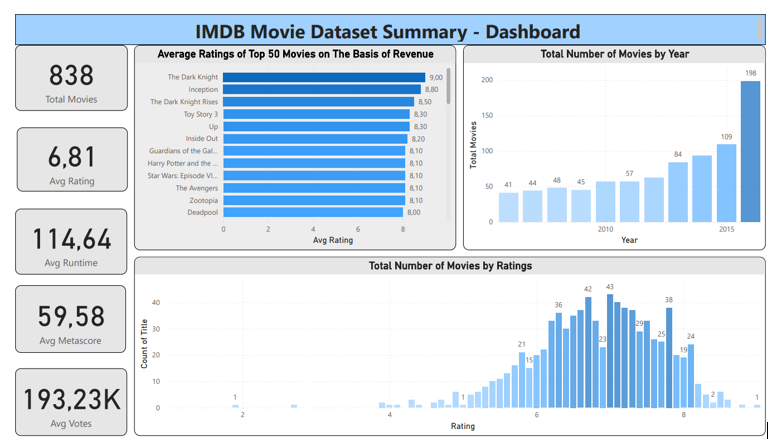

The dashboard page shown, as its layout file describes it:
{"tool":"powerbi","page":{"name":"Dashboard page - 1","canvas":[1280,720],"ordinal":0},"visuals":[{"type":"card","fields":{"Values":["Measure.Total Movies"]},"box":[0,52.1,192.1,111.1],"z":0},{"type":"card","fields":{"Values":["Measure.Avg Runtime"]},"box":[0,328,190.7,111.1],"z":1000},{"type":"card","fields":{"Values":["Measure.Avg Metascore"]},"box":[0,456.9,189.4,113.9],"z":2000},{"type":"card","fields":{"Values":["Measure.Avg Votes"]},"box":[0,596.9,190.7,113.9],"z":3000},{"type":"card","fields":{"Values":["Measure.Avg Rating"]},"box":[2.7,190.7,189.4,108.4],"z":4000},{"type":"textbox","box":[0,0,1280.3,52.1],"z":5000},{"type":"clusteredBarChart","title":" Average Ratings of Top 50 Movies on The Basis of Revenue","fields":{"Category":["imdb_movie_dataset.Title"],"Y":["Measure.Avg Rating"]},"box":[203.1,52.1,548.9,345.8],"z":6000},{"type":"columnChart","title":"Total Number of Movies by Year","fields":{"Category":["imdb_movie_dataset.Year"],"Y":["Measure.Total Movies"]},"box":[764.3,52.1,516,345.8],"z":7000},{"type":"clusteredColumnChart","title":"Total Number of Movies by Ratings","fields":{"Category":["imdb_movie_dataset.Rating"],"Y":["CountNonNull(imdb_movie_dataset.Title)"]},"box":[203.1,408.9,1077.2,301.9],"z":8000}]}

Visuals, with their boxes in screenshot pixels (x1, y1, x2, y2), scaled from the page's 1280x720 canvas onto the 777x444 screenshot:
card - Measure.Total Movies: box=[0, 32, 117, 101]
card - Measure.Avg Runtime: box=[0, 202, 116, 271]
card - Measure.Avg Metascore: box=[0, 282, 115, 352]
card - Measure.Avg Votes: box=[0, 368, 116, 438]
card - Measure.Avg Rating: box=[2, 118, 117, 184]
textbox: box=[0, 0, 776, 32]
" Average Ratings of Top 50 Movies on The Basis of Revenue" clusteredBarChart: box=[123, 32, 456, 245]
"Total Number of Movies by Year" columnChart: box=[464, 32, 776, 245]
"Total Number of Movies by Ratings" clusteredColumnChart: box=[123, 252, 776, 438]
